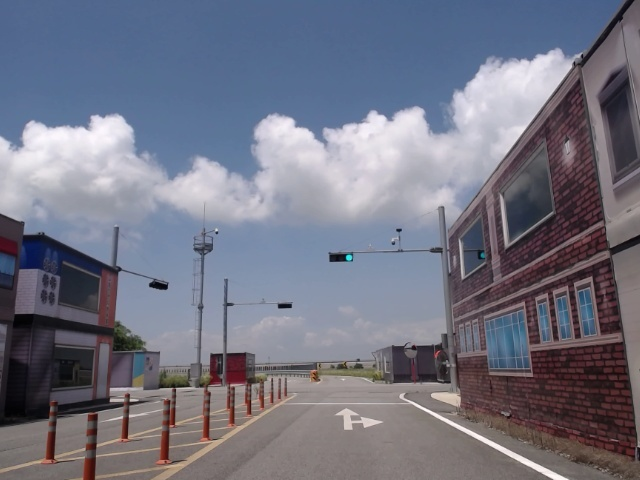green_3: (329, 253, 353, 261)
